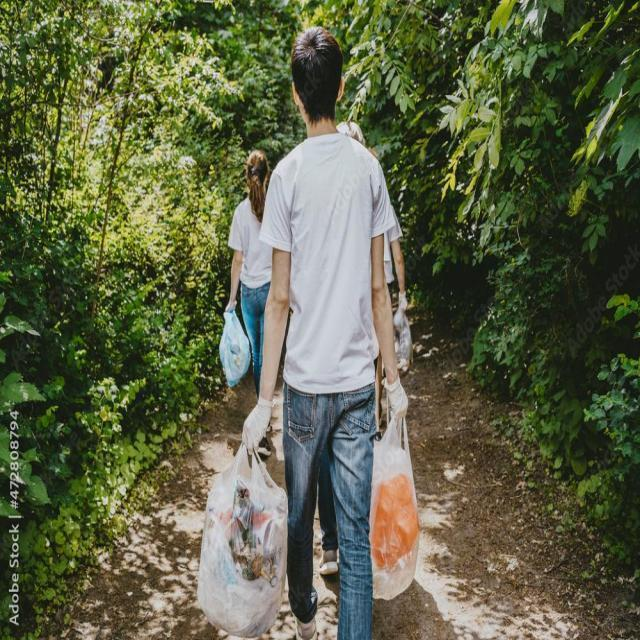Plastic_Bag: (199, 437, 290, 640)
